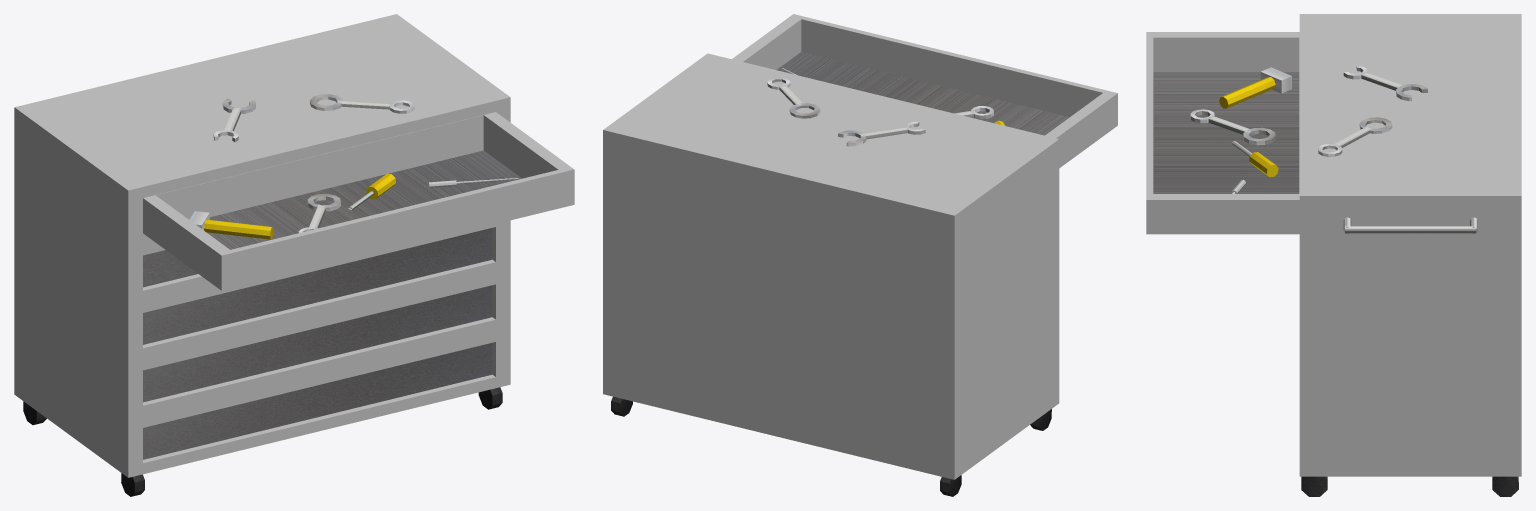
The model's file is gabinete.fbx.
3 renders of one model, left to right at view 1: azimuth 30°, elevation 25°; view 2: azimuth 150°, elevation 25°; view 3: azimuth 270°, elevation 25°, orthographic. The views are drawn at different scales.
Parts seen in each view (by area): view 1: Cylinder.007; view 2: Cylinder.007; view 3: Cylinder.007.
Part boxes in pixels (bbox=[...]): Cylinder.007: bbox=[14, 14, 574, 496]; Cylinder.007: bbox=[603, 14, 1117, 496]; Cylinder.007: bbox=[1146, 14, 1521, 496].
Bounding box in the file's own units: 186 × 139 × 153.
